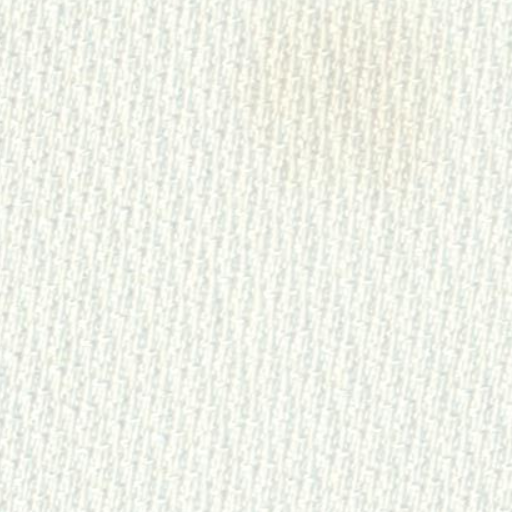WuZi: (209, 10, 473, 222)
